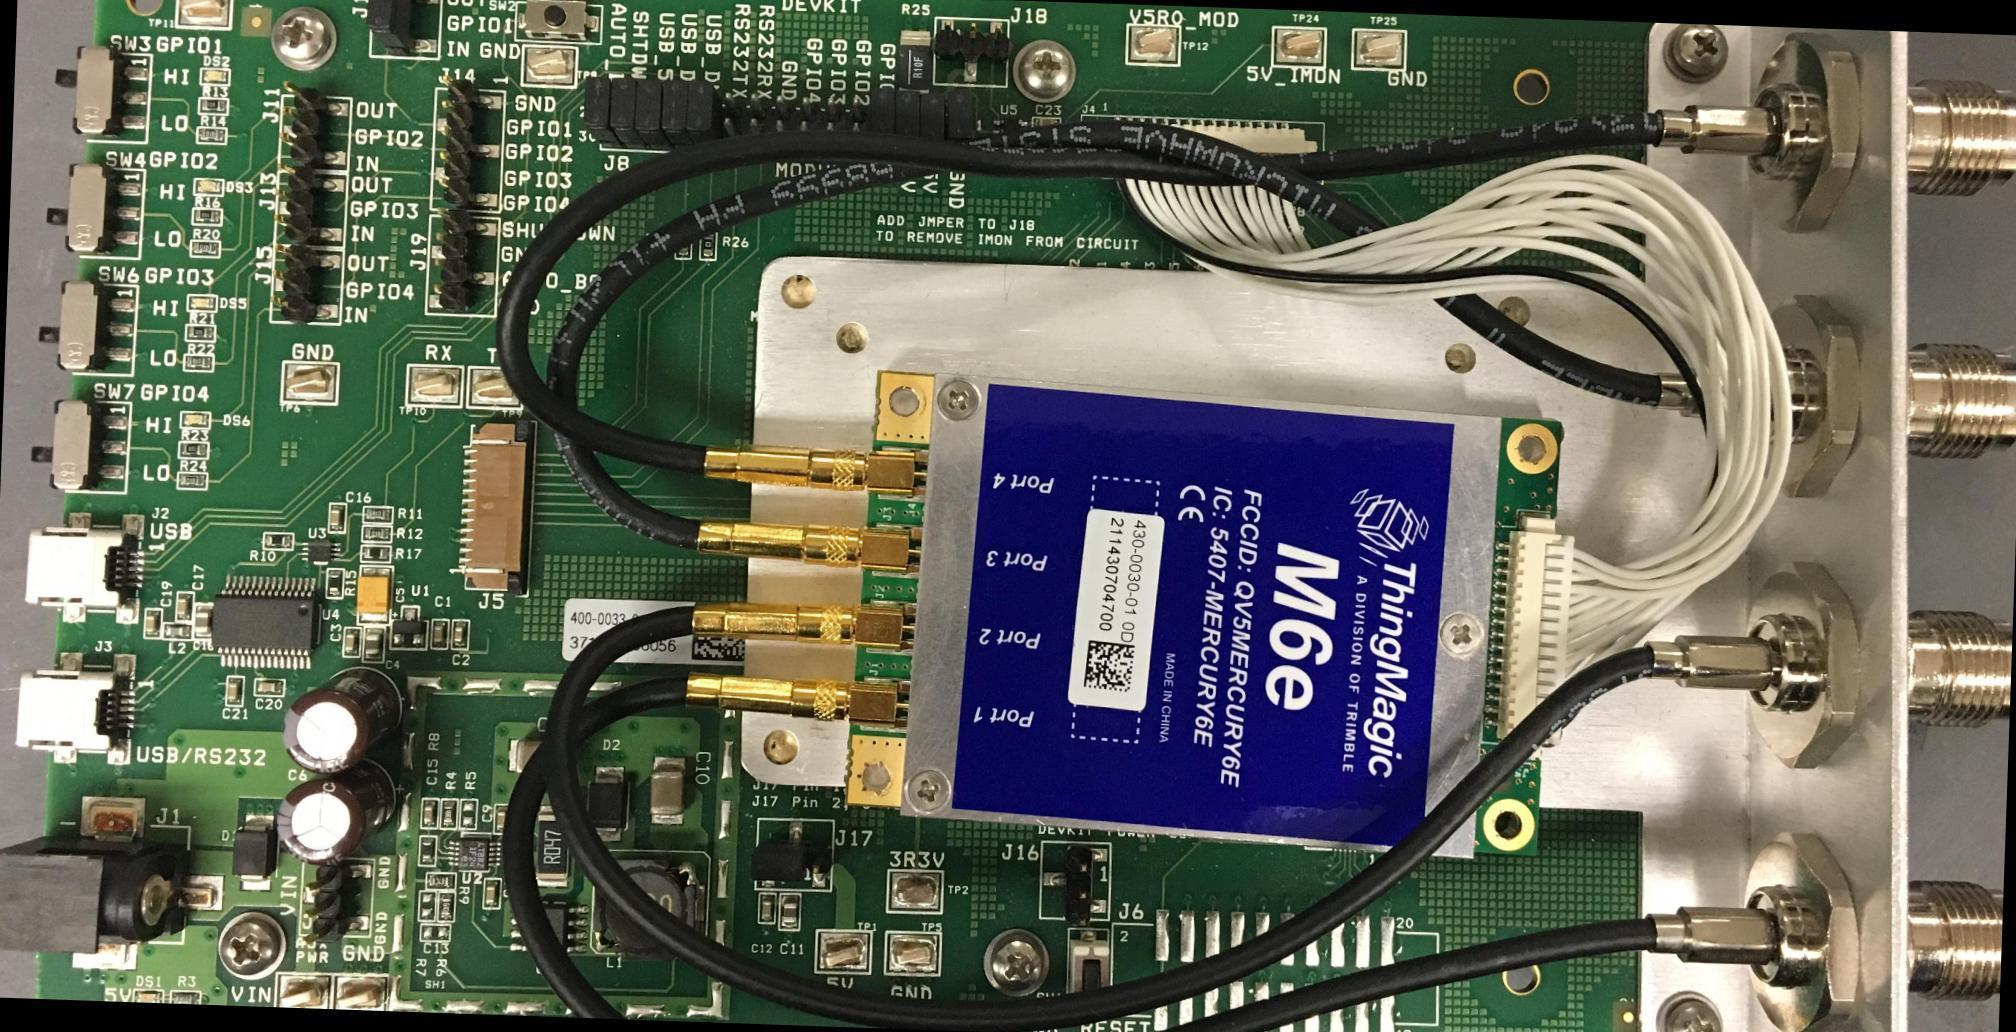Button: (514, 0, 603, 44)
Capacitor: (650, 755, 686, 824), (507, 738, 574, 772), (779, 893, 800, 931), (388, 466, 410, 502), (194, 602, 213, 641), (481, 876, 502, 908), (327, 500, 346, 533), (254, 677, 286, 696), (224, 674, 244, 706), (451, 618, 468, 651), (143, 607, 162, 639), (430, 618, 449, 649), (342, 627, 361, 658), (176, 590, 194, 623), (421, 797, 438, 829), (493, 803, 510, 835), (758, 890, 775, 922), (1035, 115, 1061, 125)
Connector: (1722, 549, 2015, 780), (1727, 280, 2015, 510), (1710, 822, 2005, 1031), (1738, 27, 2015, 251), (0, 789, 226, 974), (1487, 508, 1576, 746), (697, 507, 920, 573), (702, 437, 928, 501), (14, 648, 134, 766), (456, 418, 535, 595), (25, 509, 143, 626), (686, 667, 910, 728), (692, 599, 926, 655), (1080, 117, 1325, 163), (430, 86, 505, 213), (719, 90, 870, 144), (426, 215, 500, 317), (280, 84, 349, 172), (1038, 845, 1113, 926), (270, 246, 344, 325), (302, 859, 372, 940), (276, 169, 347, 247), (934, 16, 1008, 89), (807, 819, 836, 892)
Diode: (231, 814, 277, 891), (585, 764, 629, 841)
Electrolytic Capacitor: (283, 664, 402, 775), (275, 772, 394, 866), (359, 570, 394, 629)
IC: (915, 371, 1490, 860), (212, 574, 320, 669), (449, 836, 502, 872), (390, 605, 429, 650), (299, 540, 342, 564), (1001, 118, 1022, 141)
Inductor: (592, 850, 710, 957), (162, 623, 194, 640)
Led: (192, 177, 225, 196), (186, 292, 218, 312), (177, 409, 211, 428), (200, 67, 231, 84), (132, 988, 163, 1002)
Pads: (1111, 905, 1441, 1031), (459, 797, 478, 830), (419, 924, 451, 942), (420, 889, 437, 922)
Resistor: (535, 806, 571, 886), (898, 30, 935, 91), (416, 835, 437, 867), (262, 531, 294, 551), (440, 797, 459, 829), (674, 227, 694, 259), (178, 440, 210, 459), (175, 471, 208, 491), (362, 524, 393, 544), (325, 567, 345, 599), (196, 124, 228, 144), (698, 229, 717, 261), (197, 96, 230, 115), (361, 545, 392, 564), (425, 872, 457, 890), (188, 239, 220, 258), (185, 323, 217, 341), (183, 354, 215, 372), (191, 208, 224, 225), (362, 504, 392, 523), (1081, 59, 1098, 91), (170, 989, 201, 1003)
Switch: (52, 44, 151, 143), (36, 278, 136, 376), (44, 161, 143, 258), (30, 396, 130, 493), (1065, 928, 1113, 1015)
Transistor: (508, 899, 588, 963)
